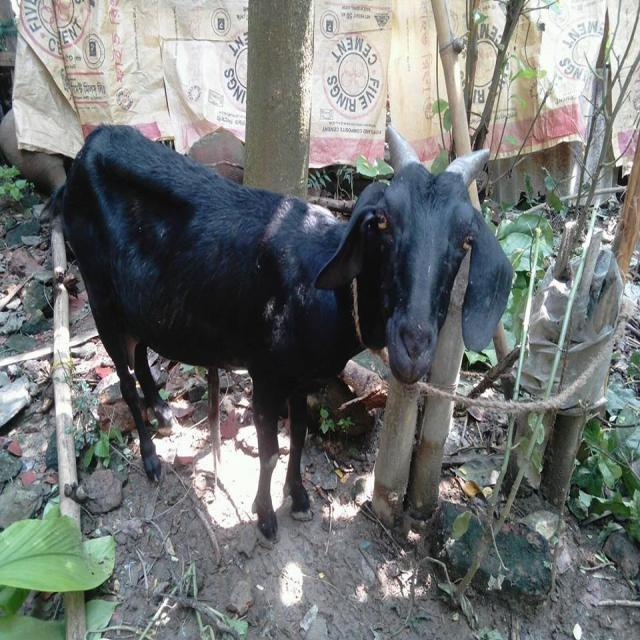Goat: (39, 119, 514, 541)
